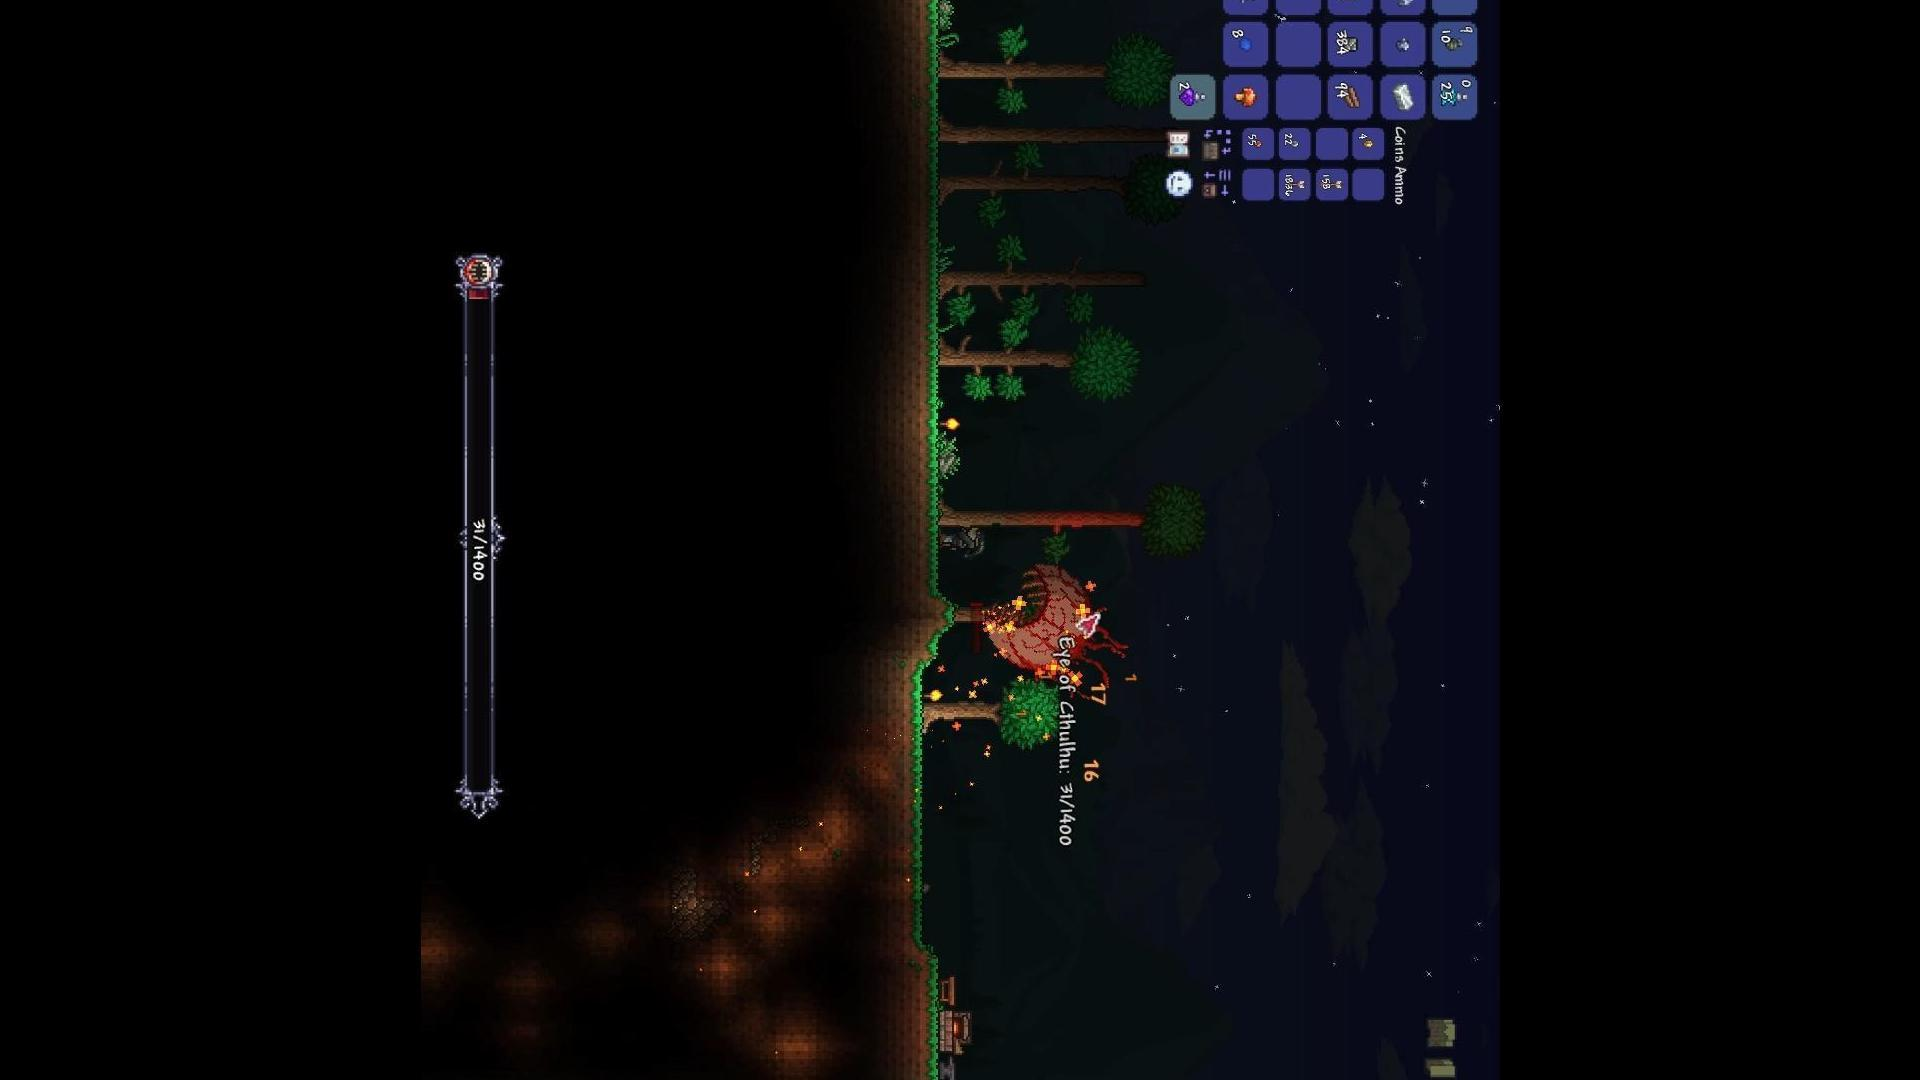anvil: (940, 1052, 961, 1080)
cobwebI: (1229, 0, 1262, 5)
furnace: (942, 1007, 977, 1056)
gel: (1236, 37, 1255, 55)
glowstick: (1337, 0, 1361, 4)
grenade: (1440, 37, 1464, 51)
